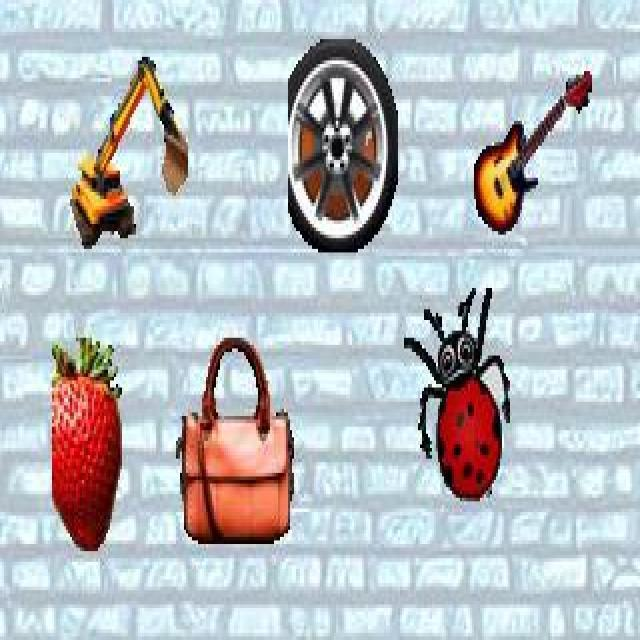Other Objects: (175, 333, 295, 544), (403, 288, 511, 503)
